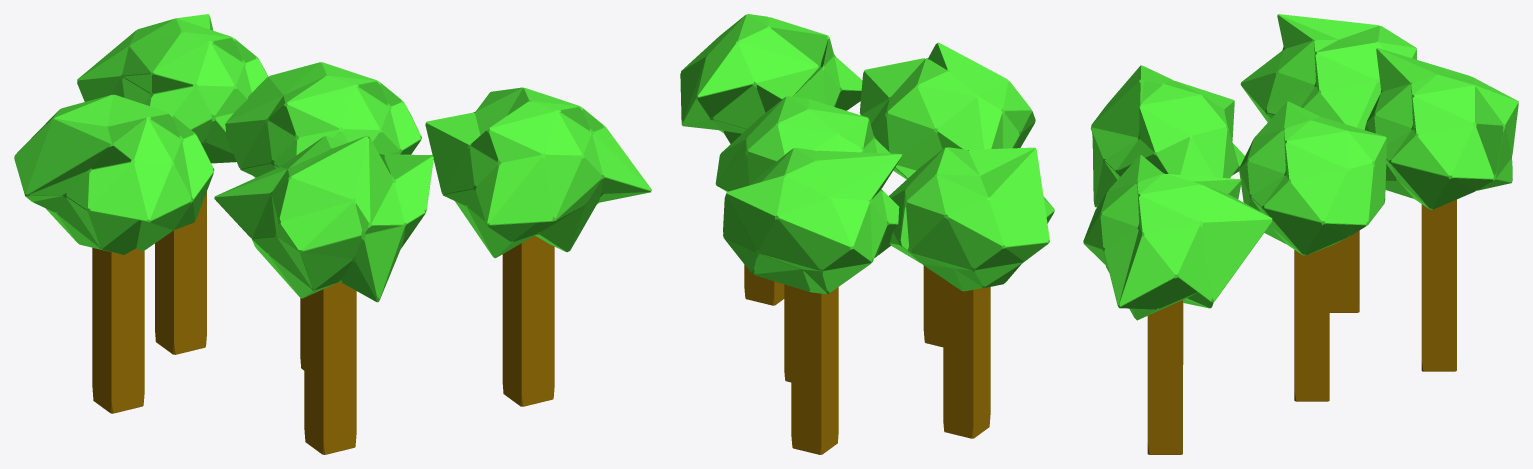
File: tree5.fbx
3 renders of one model, left to right at view 1: azimuth 30°, elevation 25°; view 2: azimuth 150°, elevation 25°; view 3: azimuth 270°, elevation 25°, orthographic. The views are drawn at different scales.
Visible parts, largest first — view 1: Cube.001; view 2: Cube.001; view 3: Cube.001.
Part boxes in pixels (x1,y1,x2,y2): Cube.001: (14,14,651,454); Cube.001: (680,14,1054,454); Cube.001: (1083,14,1518,454).
Size of the model in its own units: 1949 by 1180 by 1571.
